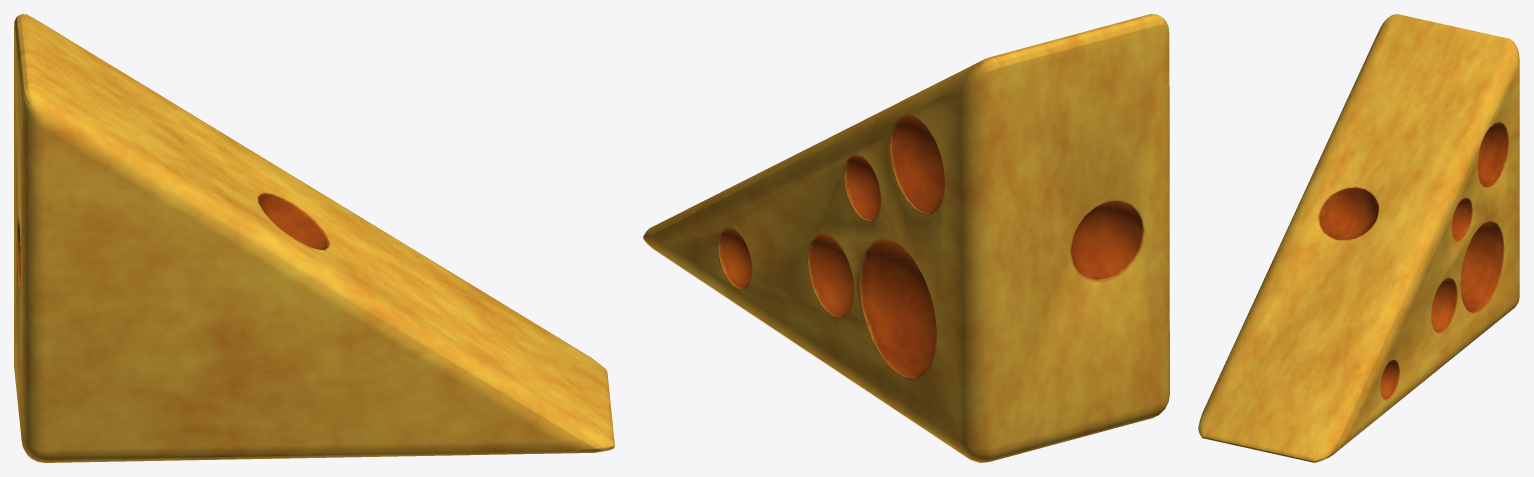
Rendered from cheese_cocina.glb.
The picture shows the model from 3 angles, left to right: view 1: azimuth 30°, elevation 25°; view 2: azimuth 150°, elevation 25°; view 3: azimuth 270°, elevation 25°; orthographic projection. The views are drawn at different scales.
Parts seen in each view (by area): view 1: cheese_cocina; view 2: cheese_cocina; view 3: cheese_cocina.
Part boxes in pixels (<box>): cheese_cocina: <box>14,14,614,462</box>; cheese_cocina: <box>643,14,1169,462</box>; cheese_cocina: <box>1198,14,1519,462</box>.
Size of what is drawn, in the model's own units: 0.5447 by 0.3675 by 0.3996.
Materials: 1 (1 with a texture image).
